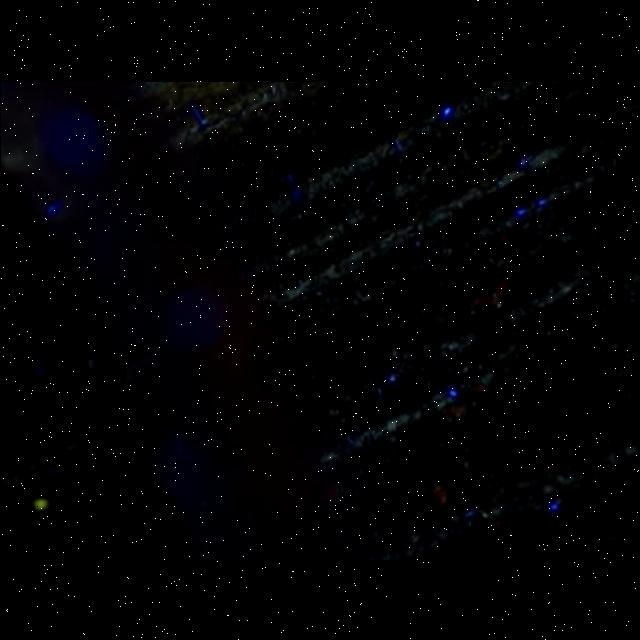microbeads: (34, 496, 46, 510)
